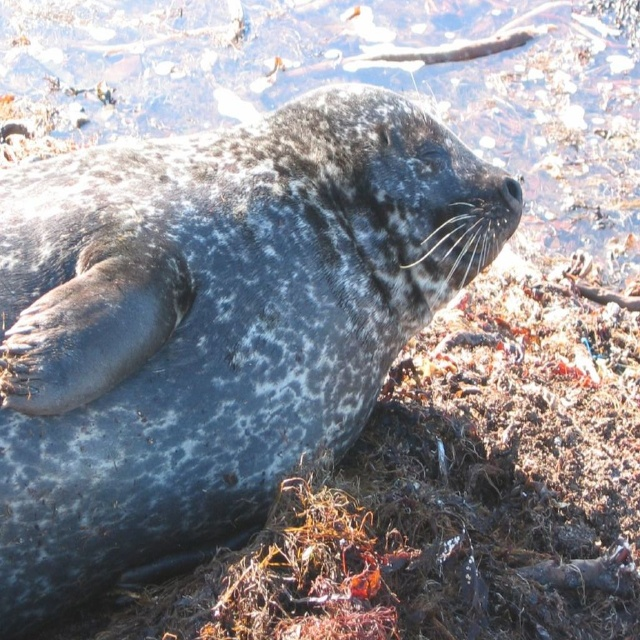Harbor seal: (0, 83, 523, 639)
